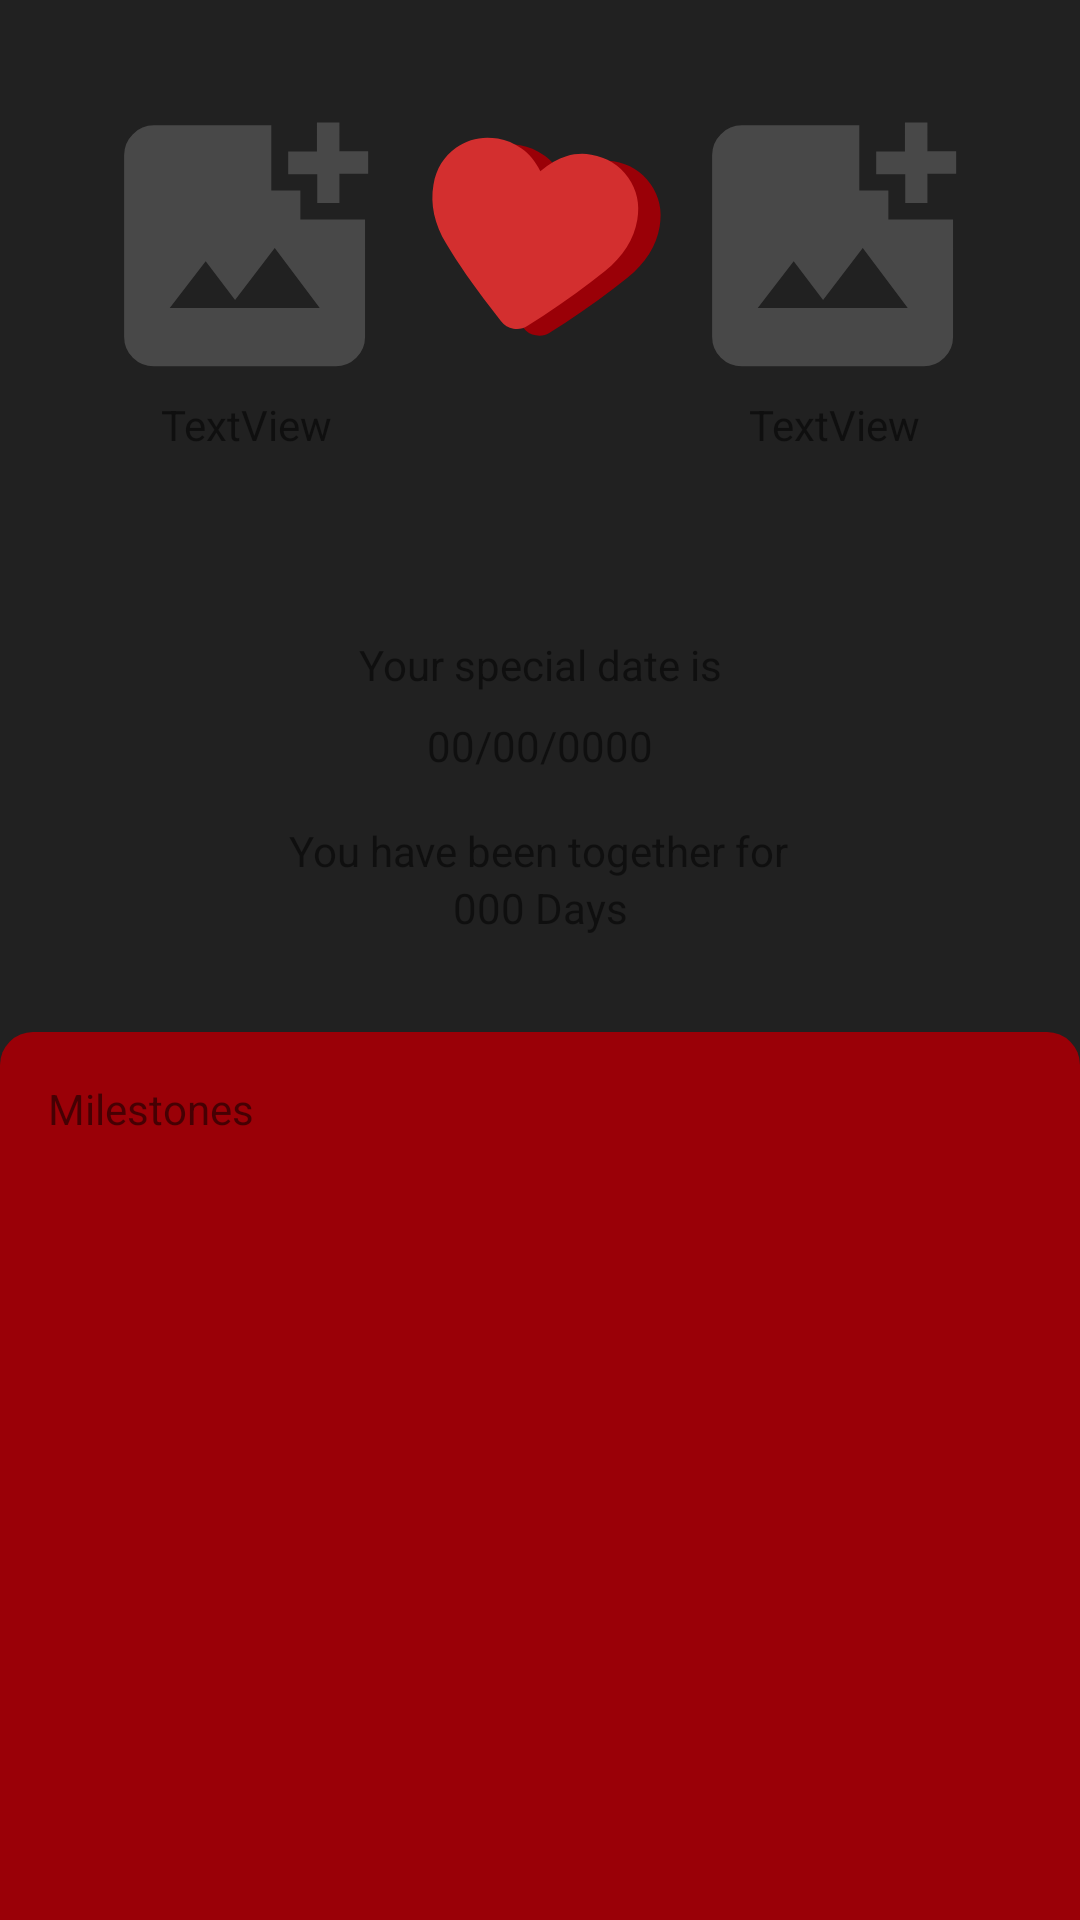

Where to tap for icons on this 1080 × 1920 app screen, as (x=x, y=y):
add photo: (x=246, y=244), (x=834, y=244)
